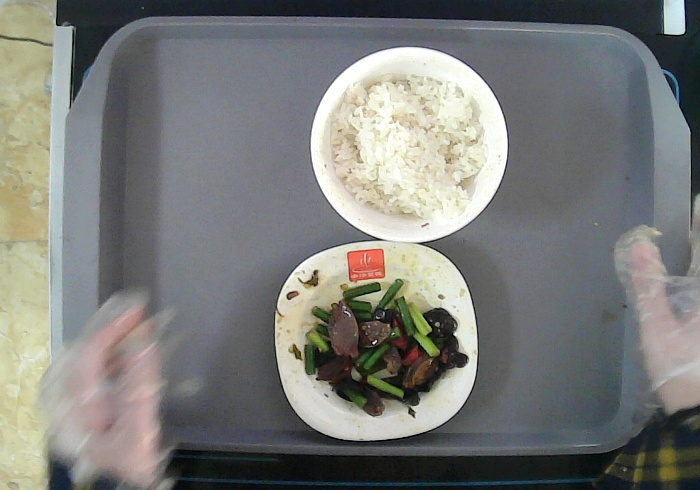SHKJ-Bai_Se_Si_Fang_Cai_Die: (274, 241, 478, 441)
SHKJ-Fan_Wan: (309, 46, 508, 243)
